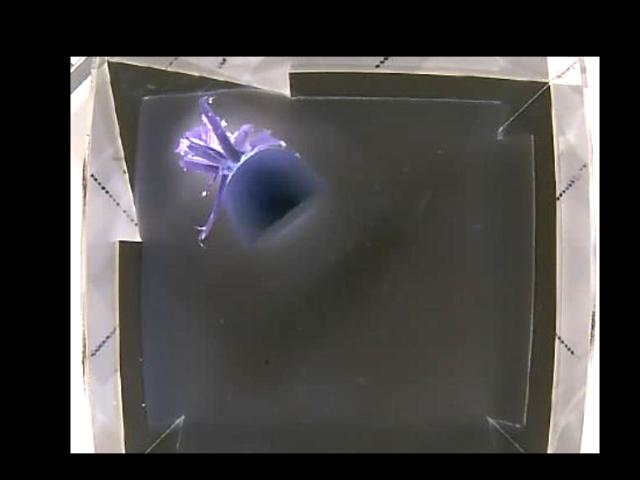Mooli: (177, 92, 325, 247)
